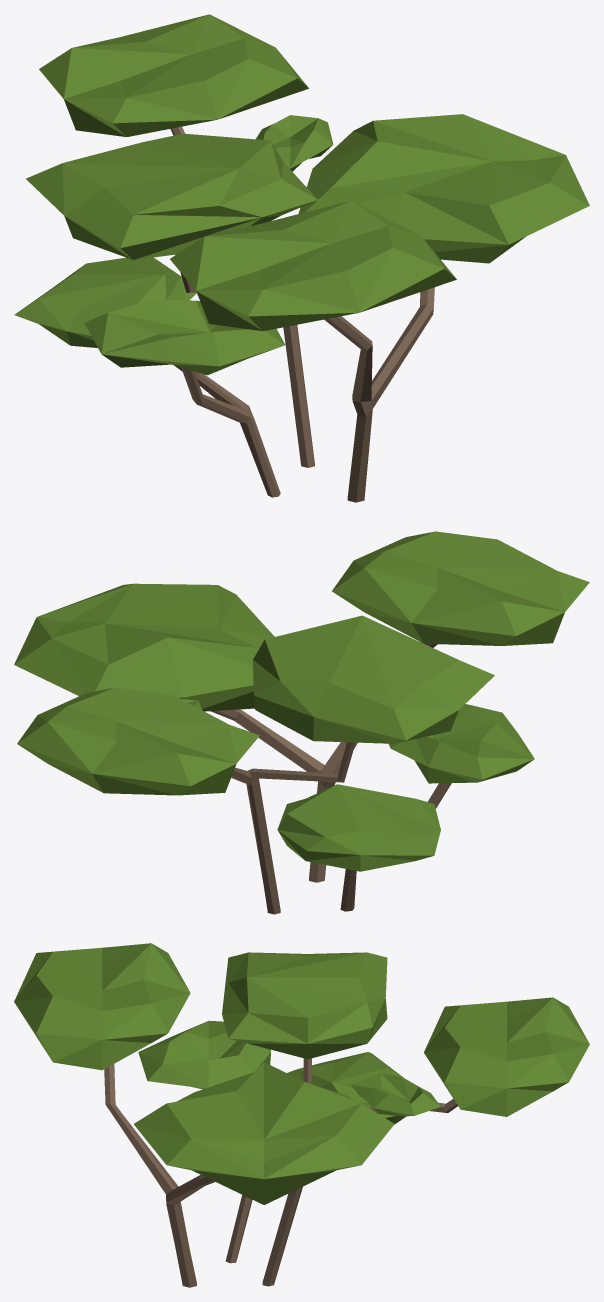
File: Bush_1.fbx
3 views of the same model, one above another, from view 1: azimuth 30°, elevation 25°; view 2: azimuth 150°, elevation 25°; view 3: azimuth 270°, elevation 25° (orthographic). The views are drawn at different scales.
Parts seen in each view (by area): view 1: Bush_1; view 2: Bush_1; view 3: Bush_1.
Boxes of the visible parts, box(x1,y1,x2,y2) form: Bush_1: box(14, 14, 589, 502); Bush_1: box(14, 531, 589, 914); Bush_1: box(14, 943, 589, 1287).
Size of the model in its own units: 192 by 230 by 120.
